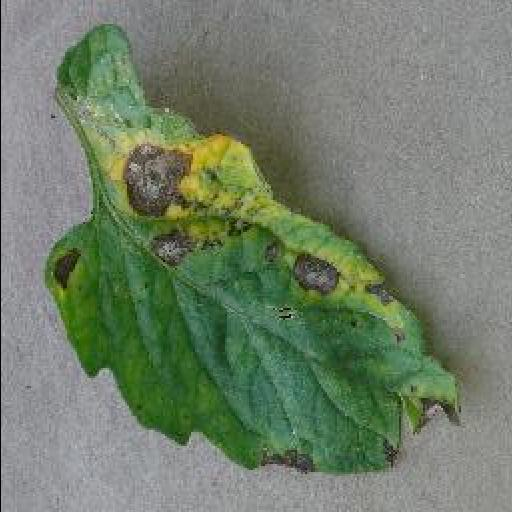disease_tomato: (44, 26, 466, 479)
